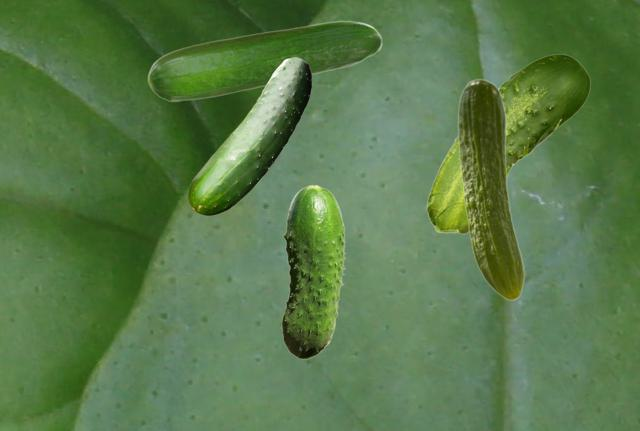cucumber: (426, 54, 589, 233), (188, 57, 310, 214), (147, 20, 381, 101), (457, 78, 524, 300), (281, 184, 345, 358)
